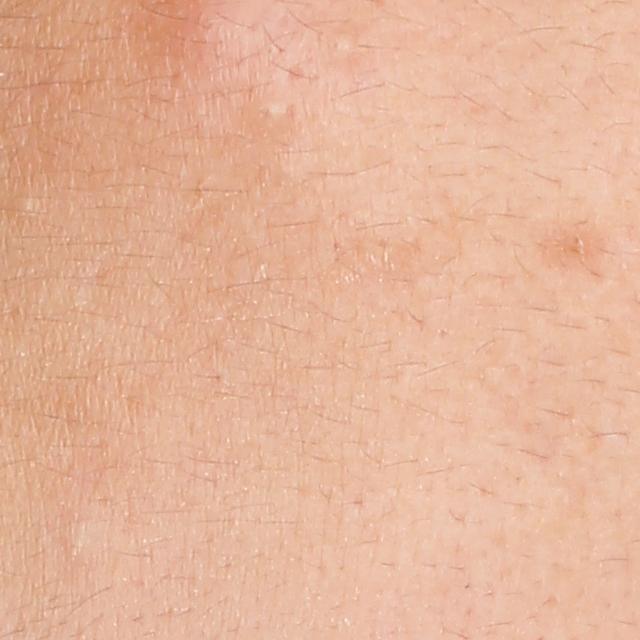comedo: (62, 525, 104, 567), (253, 92, 291, 127)
